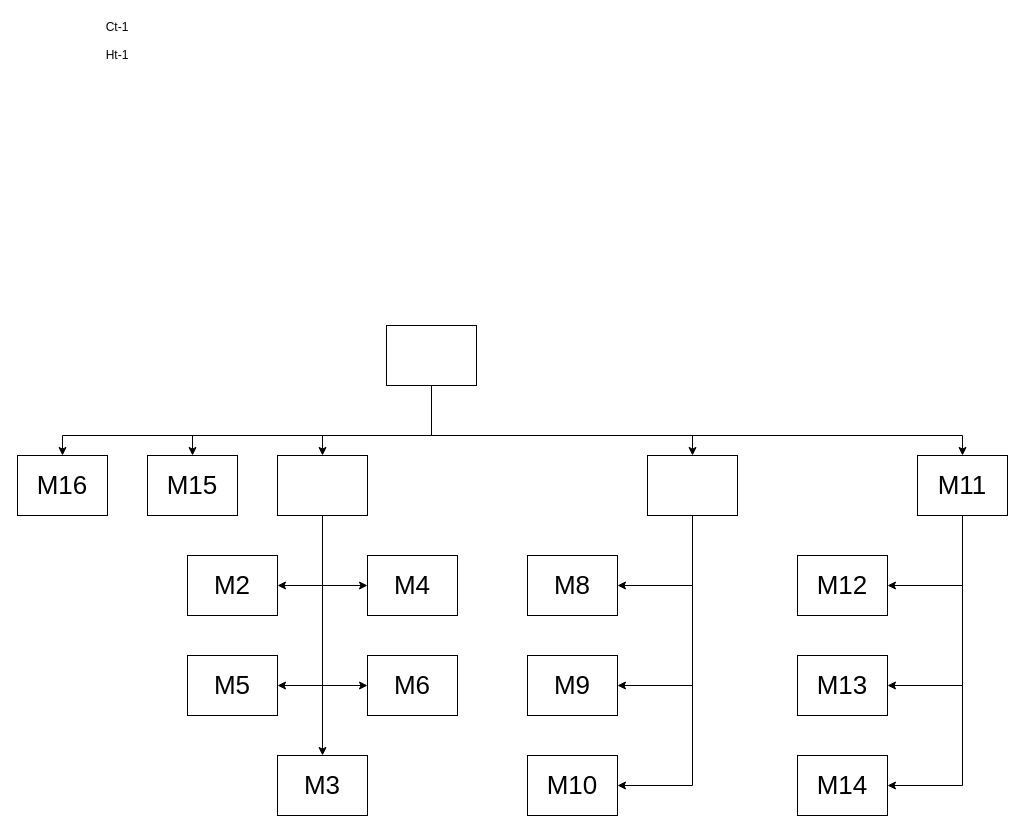
Image size: 1025x833. Some labels were removed from this diagram. The shapes that lost their labels are listed below. From the top down, each one's box as (x1, y1, x2, y2) in pixels, then its label:
(386, 324, 476, 386): М0
(276, 454, 368, 516): М1
(646, 454, 738, 516): М7
